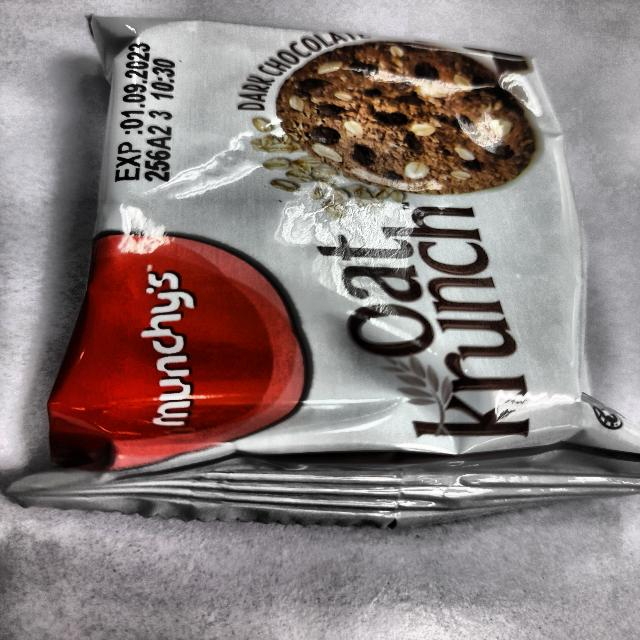Plastic: (75, 14, 596, 504)
